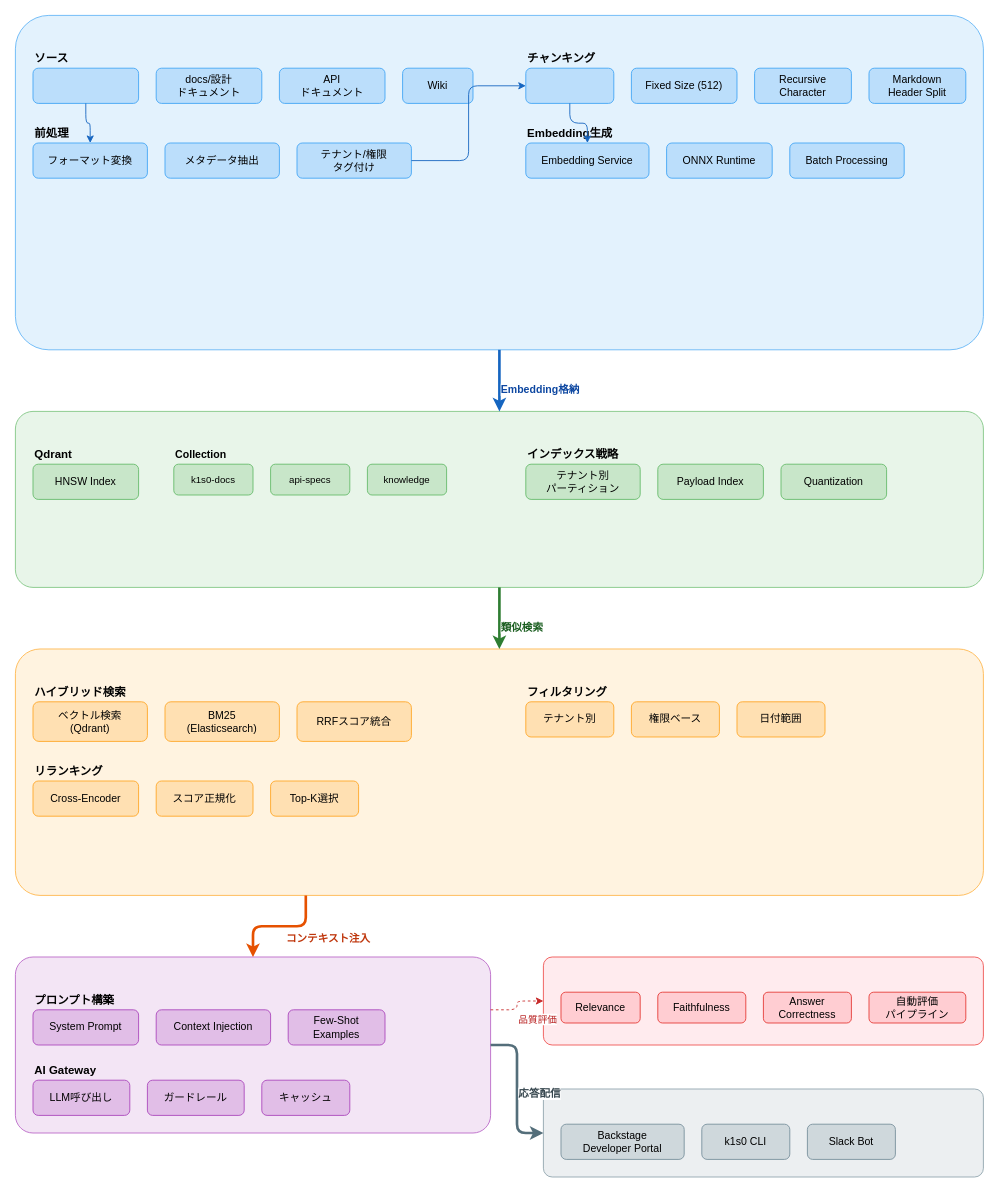
The diagram is 999 pixels wide and 1192 high, and some of its shapes have lost their labels. Here are the shapes that lost their labels. From the top down, the box of each, then its label:
(32, 67, 139, 103): File Server
(525, 67, 614, 103): Semantic
(15, 15, 983, 350): ドキュメント取り込み
(15, 411, 983, 587): ベクトルDB
(15, 648, 983, 895): 検索エンジン
(543, 956, 983, 1045): RAG評価
(15, 956, 491, 1133): 生成
(543, 1088, 983, 1177): 統合
